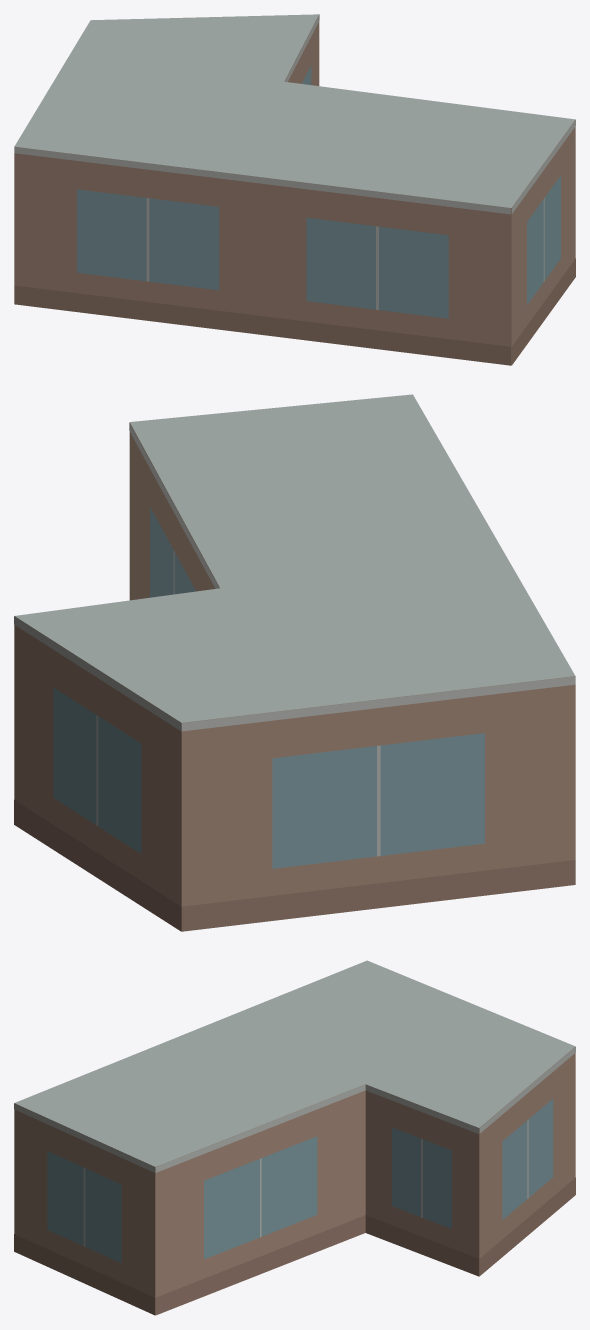
File: survey-upis-32619397.glb
3 views of the same model, one above another, from view 1: azimuth 30°, elevation 25°; view 2: azimuth 150°, elevation 25°; view 3: azimuth 270°, elevation 25° (orthographic). The views are drawn at different scales.
Visible parts, largest first — view 1: survey-upis-32619397.tmp; view 2: survey-upis-32619397.tmp; view 3: survey-upis-32619397.tmp.
Part boxes in pixels (<box>): survey-upis-32619397.tmp: <box>14,14,575,365</box>; survey-upis-32619397.tmp: <box>14,394,575,931</box>; survey-upis-32619397.tmp: <box>14,960,575,1315</box>.
Size of the model in its own units: 9.11 by 3.05 by 10.46.
